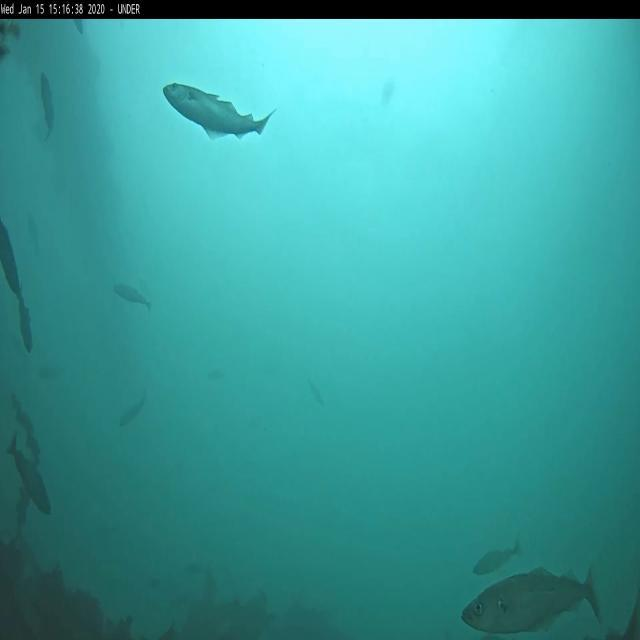fish: (462, 566, 603, 637), (165, 80, 274, 141), (8, 430, 50, 516), (471, 541, 522, 578), (0, 222, 19, 294), (114, 282, 152, 314), (38, 70, 54, 142), (119, 386, 148, 422), (17, 287, 32, 352)
